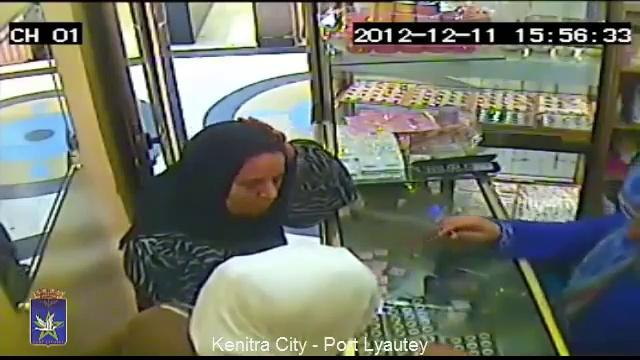Product: (443, 219, 459, 245)
Product-Picked: (422, 103, 640, 353)
Regular: (159, 225, 391, 360), (173, 104, 290, 226)
